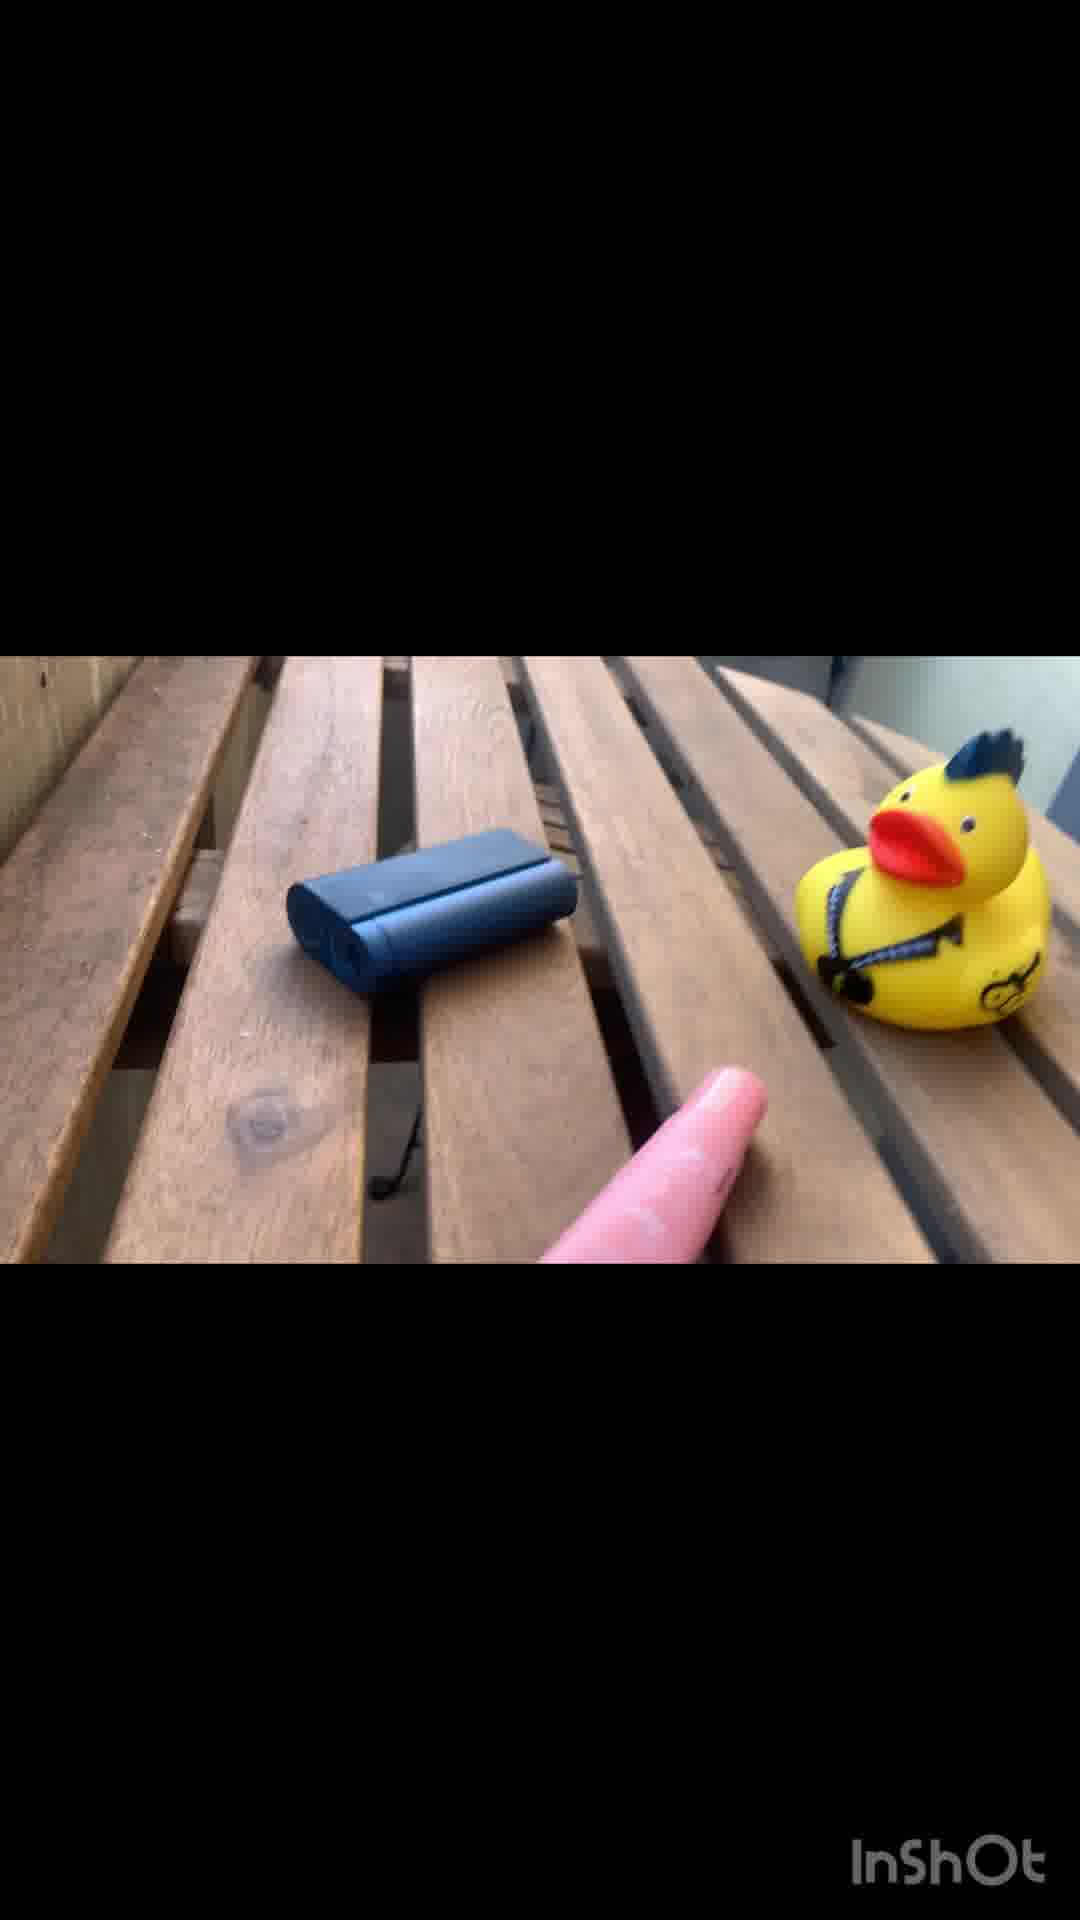duck: (798, 741, 1056, 1034)
glo: (287, 839, 580, 977)
lip balm: (527, 1064, 777, 1257)
